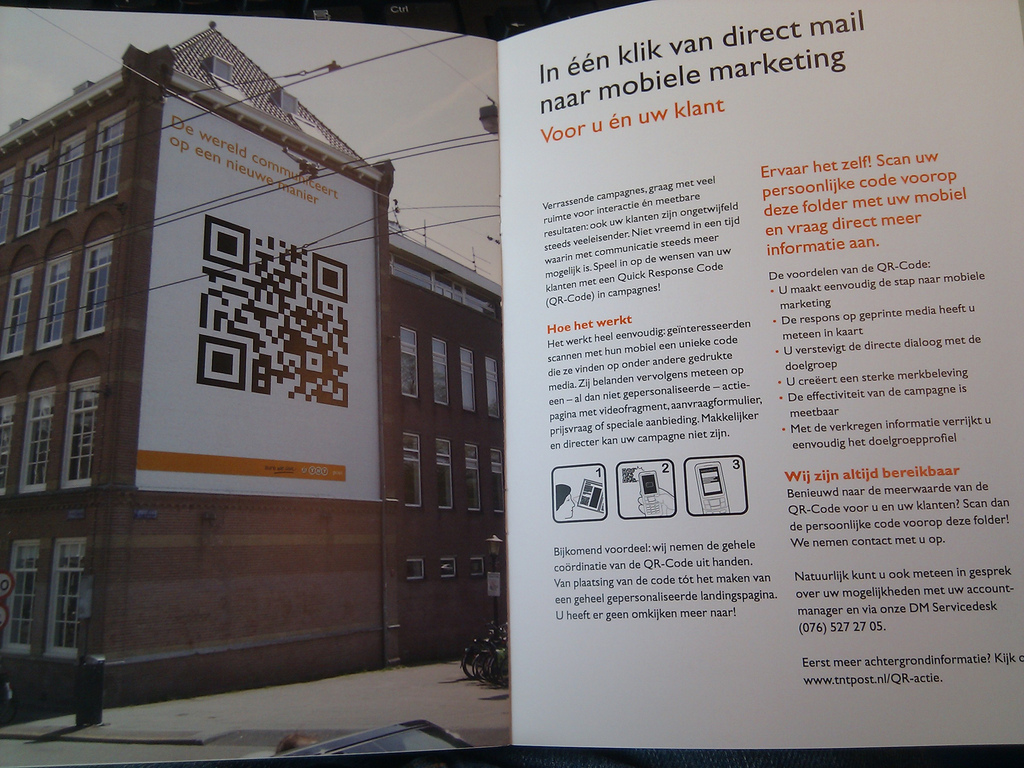QR-CODE: (196, 214, 347, 407)
